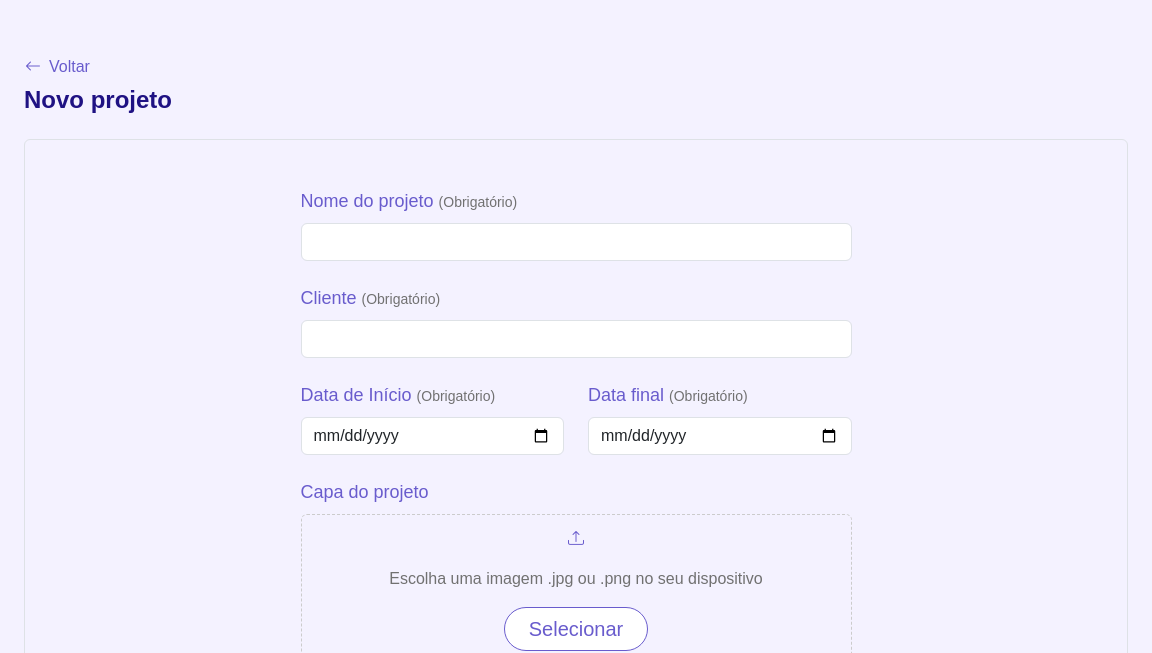
Scenario: FormProjectView › Teste inputs do usuario › Verifica se ao inserir datas invalidas, a mensagem de erro sera exibida
Type "2024-09-25" into the date field labelled "Data de Início (Obrigatório)". click: {"x": 432, "y": 436}
box: [300,417,564,455]
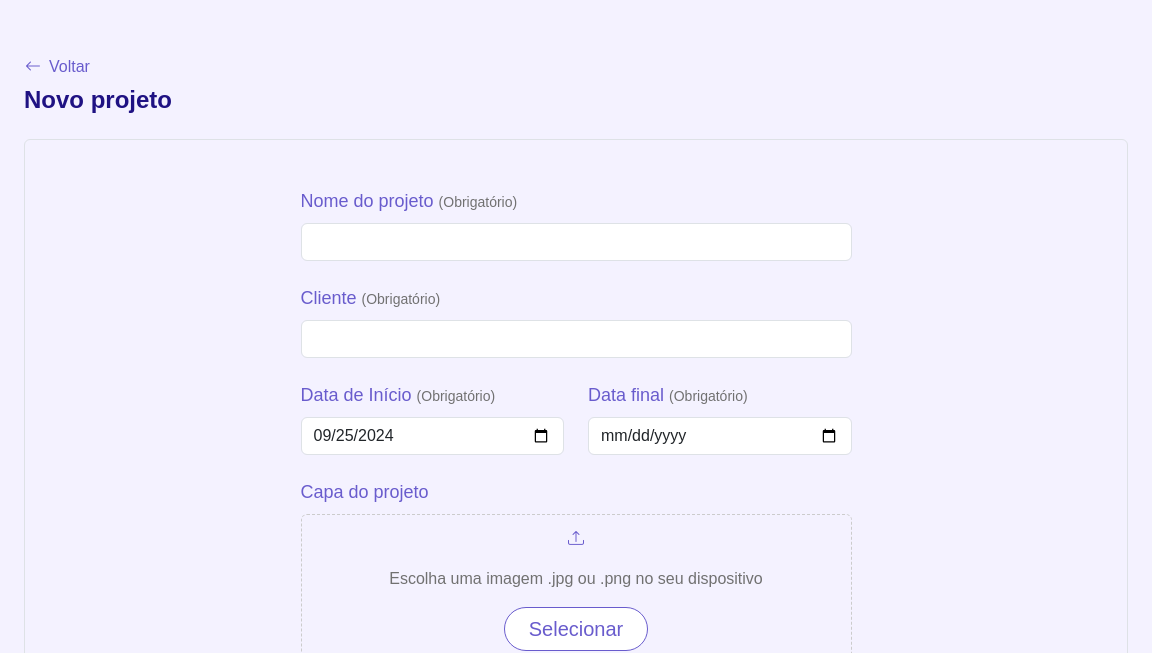
Type "2024-09-20" into the date field labelled "Data final (Obrigatório)". click: {"x": 720, "y": 436}
box: [588,417,852,455]
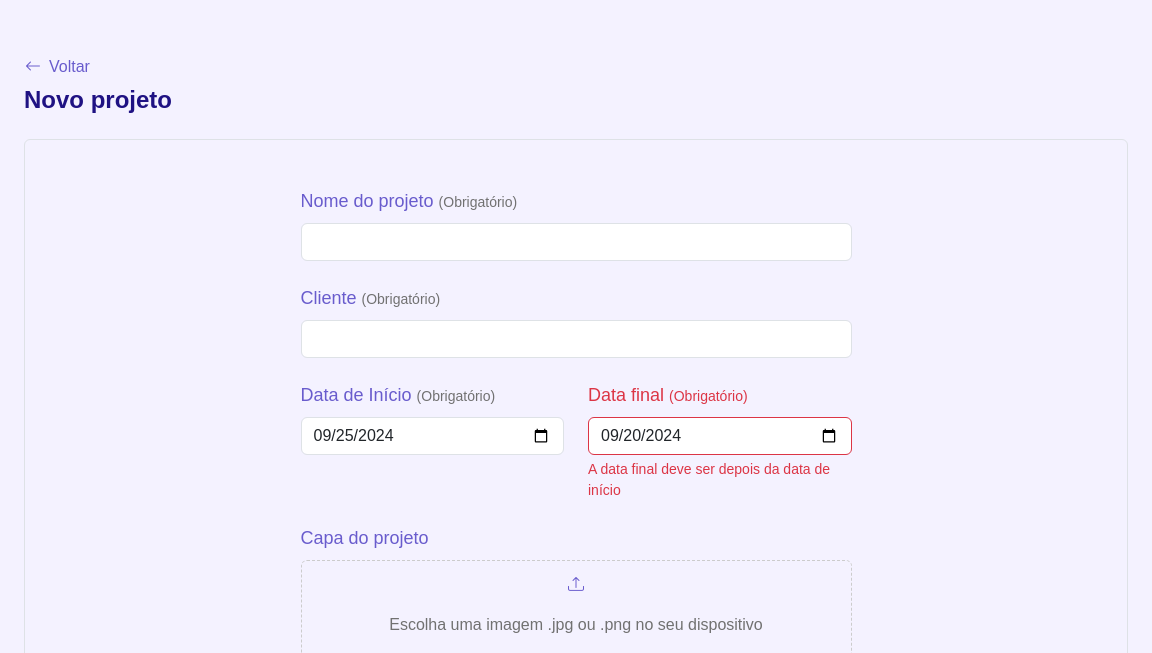
Expected: the date field labelled "Data final (Obrigatório)" has class "is-invalid", [588,417,852,455]
# set uma nova data inicio
Type "2024-09-26" into the date field labelled "Data de Início (Obrigatório)". click: {"x": 432, "y": 436}
box: [300,417,564,455]
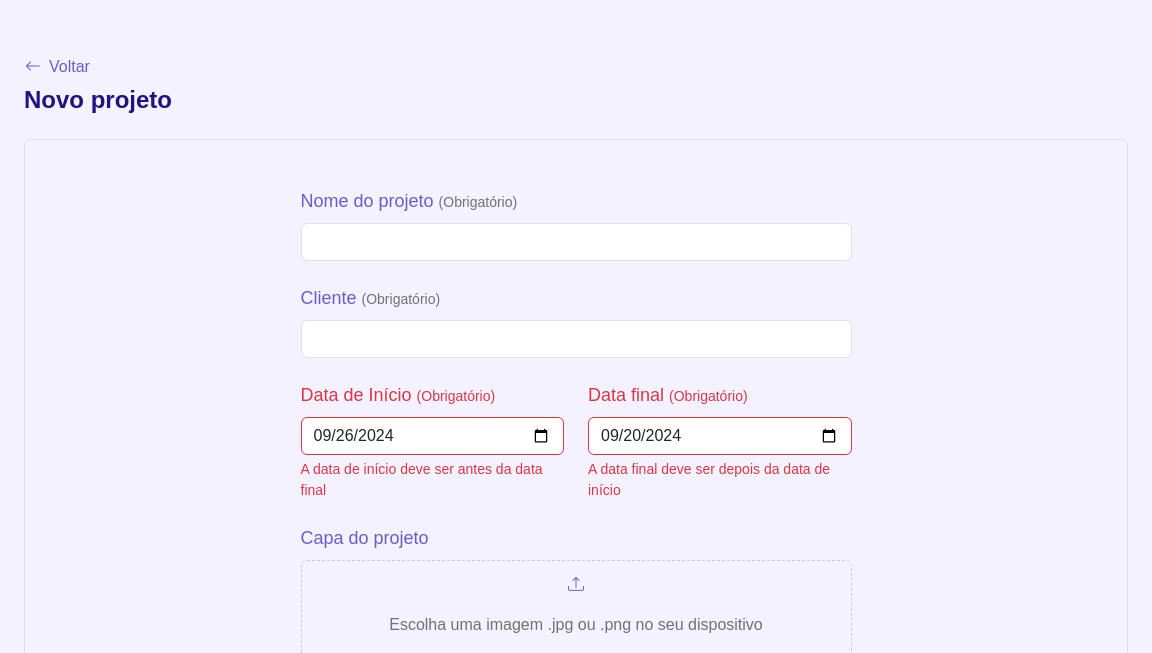
Expected: the text with class "invalid-feedback" reads "A data final deve ser depois da data de início", [588,461,830,498]
Expected: the text with class "invalid-feedback" reads "A data de início deve ser antes da data final", [300,461,543,498]
